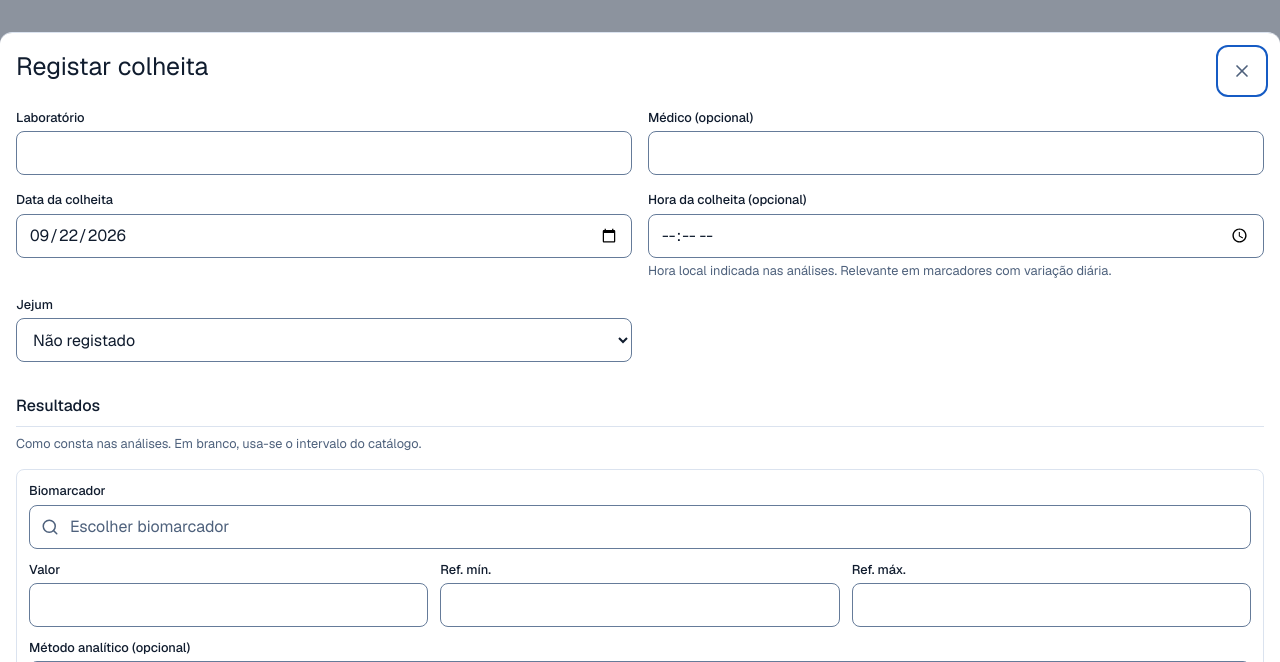
ReportCreate › does not overwrite a range someone has already typed
In the field labelled "Laboratório": [324, 153] box top-left (16, 131), bottom-right (632, 175), type "Synlab Braga"
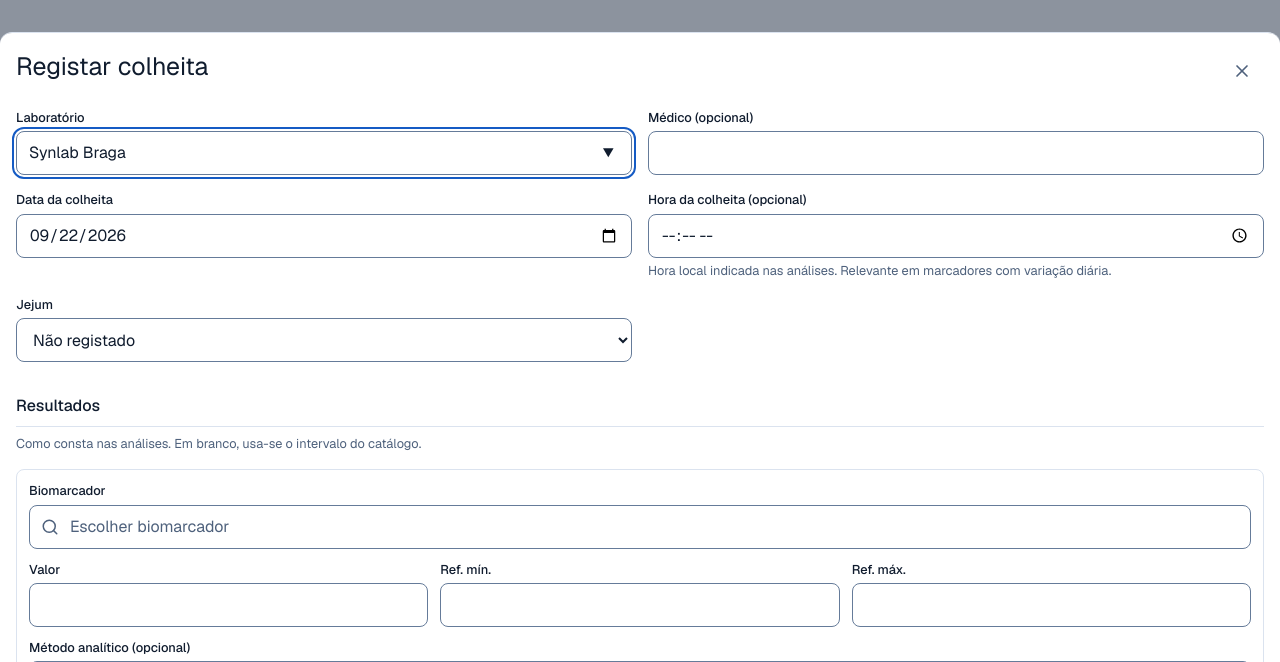
In the field labelled "Ref. mín.": [640, 605] box top-left (440, 583), bottom-right (840, 627), type "12"
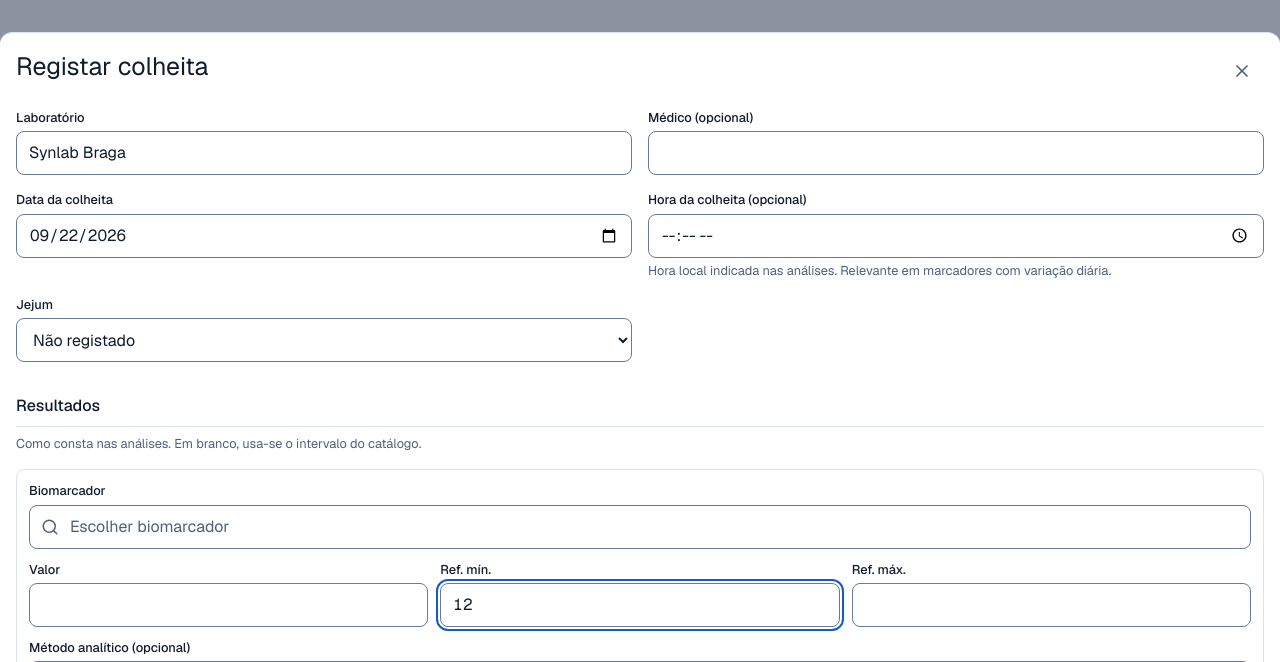
In the dropdown labelled "Biomarcador": [640, 527] box top-left (29, 505), bottom-right (1251, 549), type "hemo"
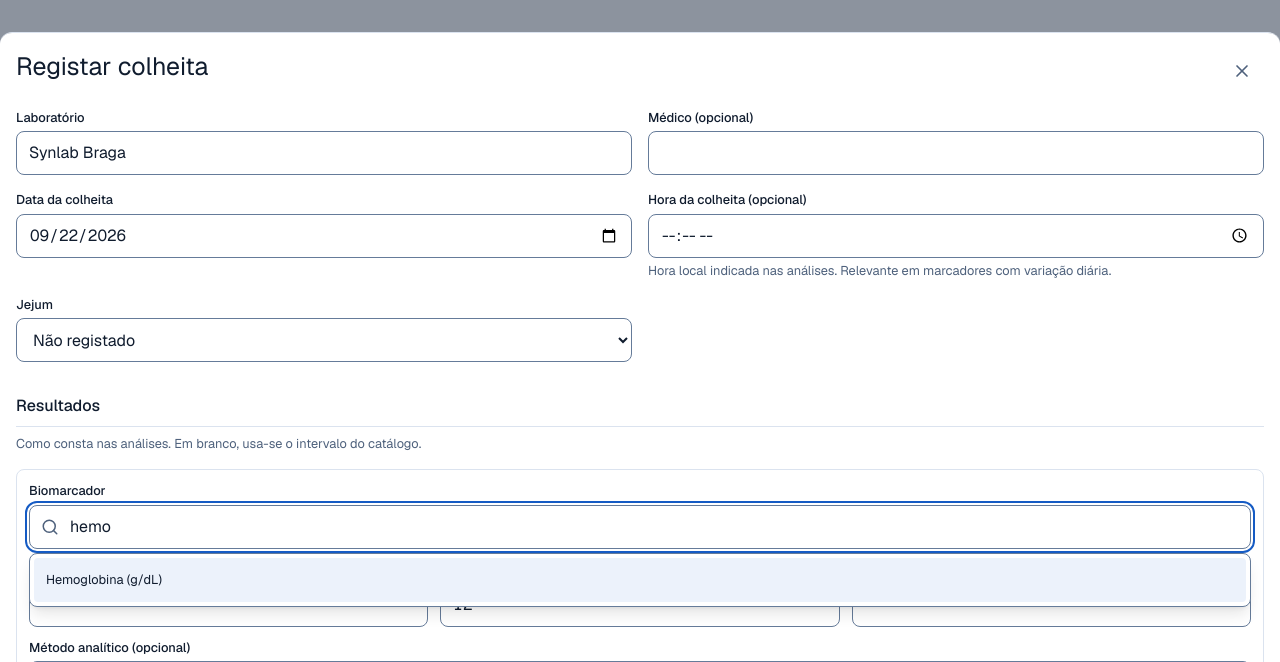
Click the option "Hemoglobina (g/dL)": [104, 579] box top-left (34, 558), bottom-right (1246, 602)
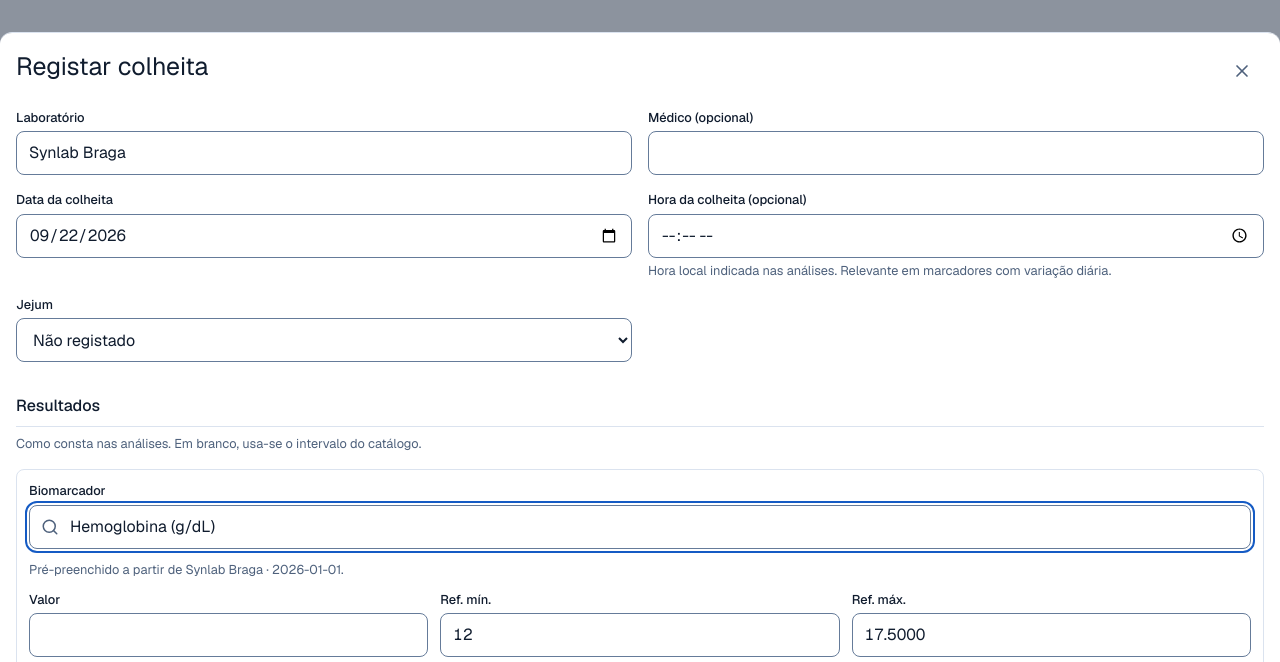
Check: the field labelled "Ref. máx." holds "17.5000", box top-left (852, 613), bottom-right (1251, 657)
